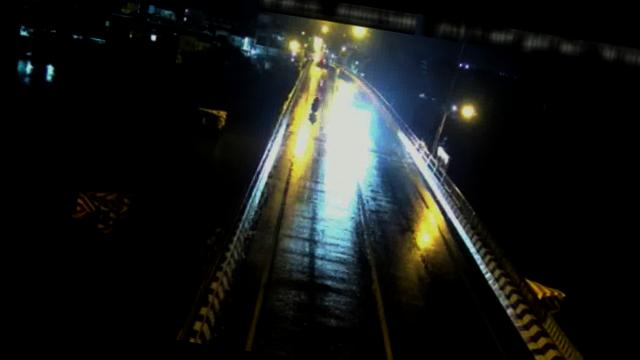Bike: (308, 96, 323, 119)
